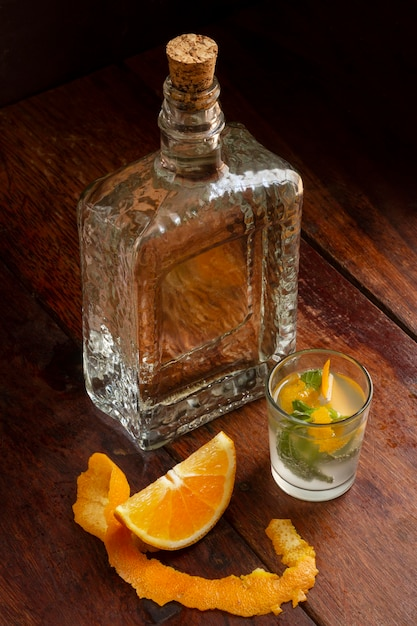alcohol: (76, 35, 305, 452), (263, 351, 375, 502)
